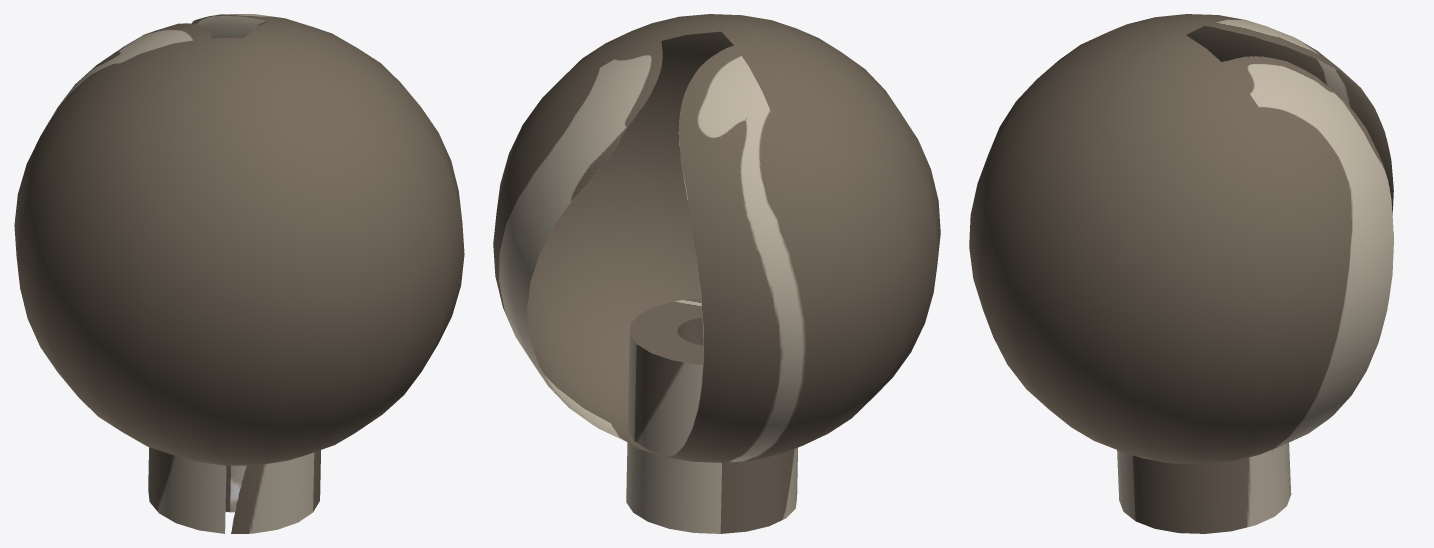
File: BOOM 2.fbx
3 views of the same model, side by side, from view 1: azimuth 30°, elevation 25°; view 2: azimuth 150°, elevation 25°; view 3: azimuth 270°, elevation 25° (orthographic).
Visible parts, largest first — view 1: pCylinder14.001; view 2: pCylinder14.001; view 3: pCylinder14.001.
Boxes of the visible parts, bbox=[...] form: pCylinder14.001: bbox=[14, 14, 464, 533]; pCylinder14.001: bbox=[493, 14, 940, 533]; pCylinder14.001: bbox=[969, 14, 1393, 533].
Size of the model in its own units: 16.43 by 18.71 by 16.42.
